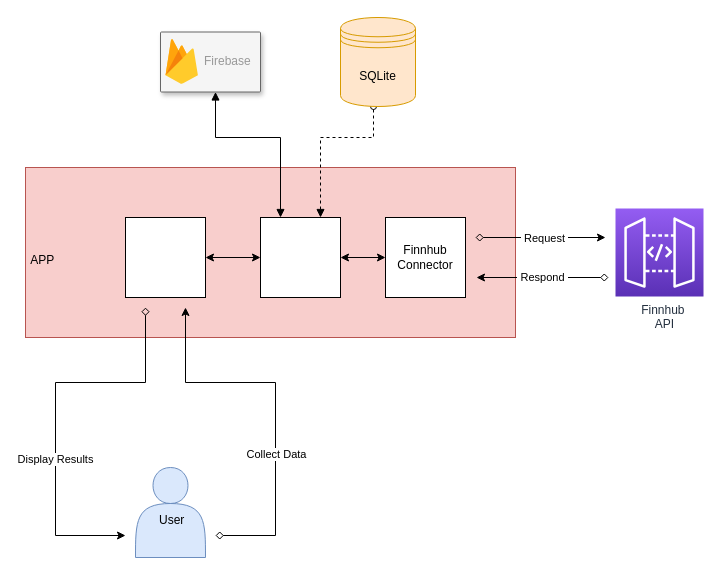
The diagram is 721 pixels wide and 575 high, and some of its shapes have lost their labels. The centre of each missing label's shape, as x and y in pixels:
"Stock Data Manager" belongs at point (300, 257).
"UI" belongs at point (165, 257).
